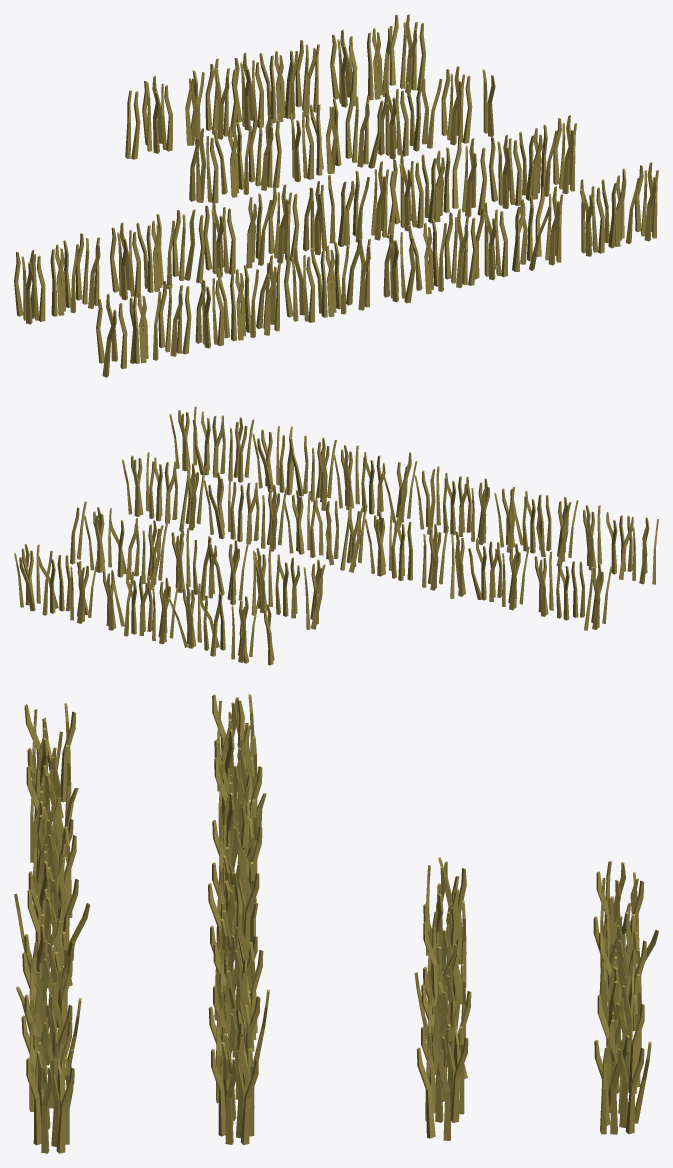
The model's file is Farm_SecondAge_Level2_Wheat.glb.
3 renders of one model, top to bottom at view 1: azimuth 30°, elevation 25°; view 2: azimuth 150°, elevation 25°; view 3: azimuth 270°, elevation 25°, orthographic. The views are drawn at different scales.
Parts seen in each view (by area): view 1: Farm_SecondAge_Level2_Wheat; view 2: Farm_SecondAge_Level2_Wheat; view 3: Farm_SecondAge_Level2_Wheat.
Boxes of the visible parts, x1,y1,x2,y2 form: Farm_SecondAge_Level2_Wheat: (14,14,658,377); Farm_SecondAge_Level2_Wheat: (14,406,658,665); Farm_SecondAge_Level2_Wheat: (14,694,658,1153).
Bounding box in the file's own units: 1.51 × 0.1883 × 1.1.
